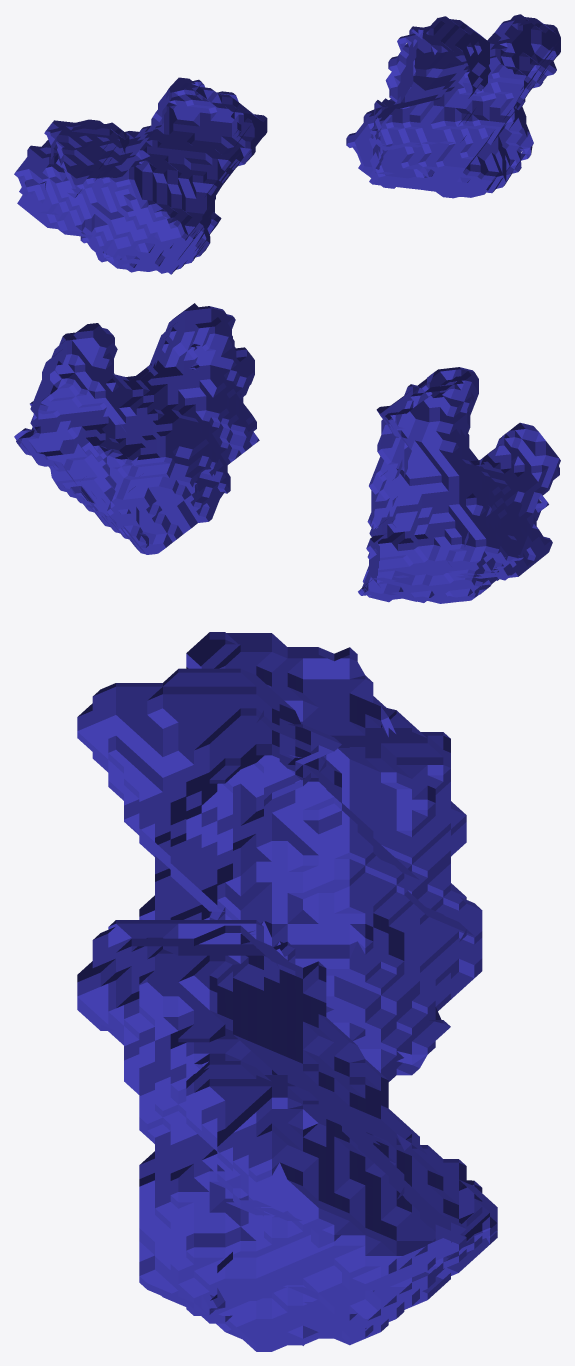
File: region_0009_BSTpd__bed_nucleus_of_the_stria_terminalis__posterior_division_.glb
3 renders of one model, top to bottom at view 1: azimuth 30°, elevation 25°; view 2: azimuth 150°, elevation 25°; view 3: azimuth 270°, elevation 25°, orthographic. The views are drawn at different scales.
Parts seen in each view (by area): view 1: world; view 2: world; view 3: world.
Boxes of the visible parts, x1,y1,x2,y2 form: world: (14,14,560,274); world: (14,303,560,603); world: (77,632,497,1351).
Size of the model in its own units: 0.624 by 0.216 by 0.216.
